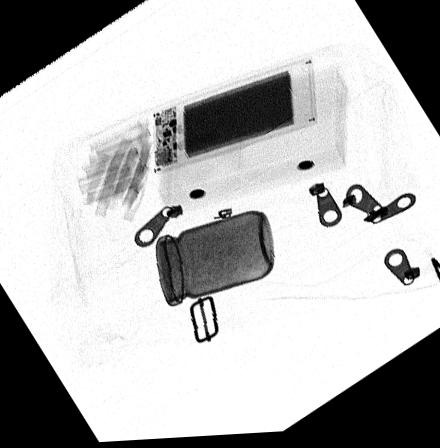Powerbank: (148, 61, 316, 177)
